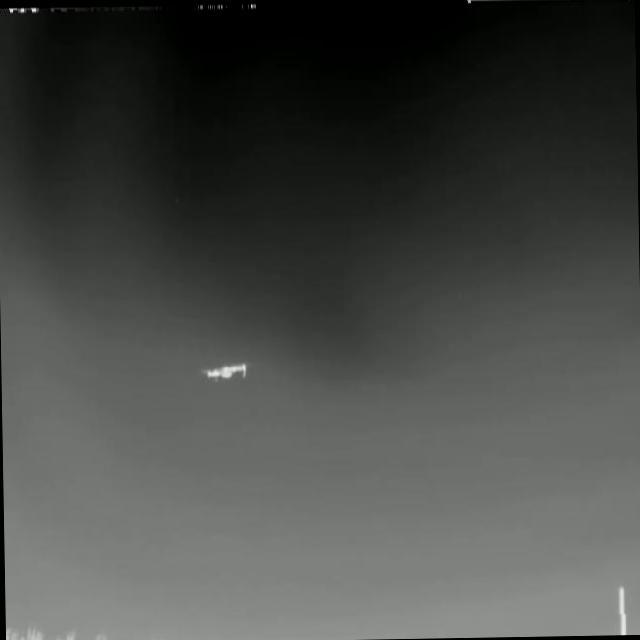DRONE: (194, 355, 251, 391)
